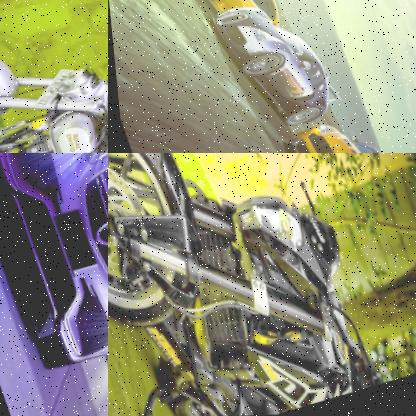bike: (108, 153, 383, 416)
car: (0, 153, 108, 376), (212, 0, 333, 138), (275, 107, 387, 153)
